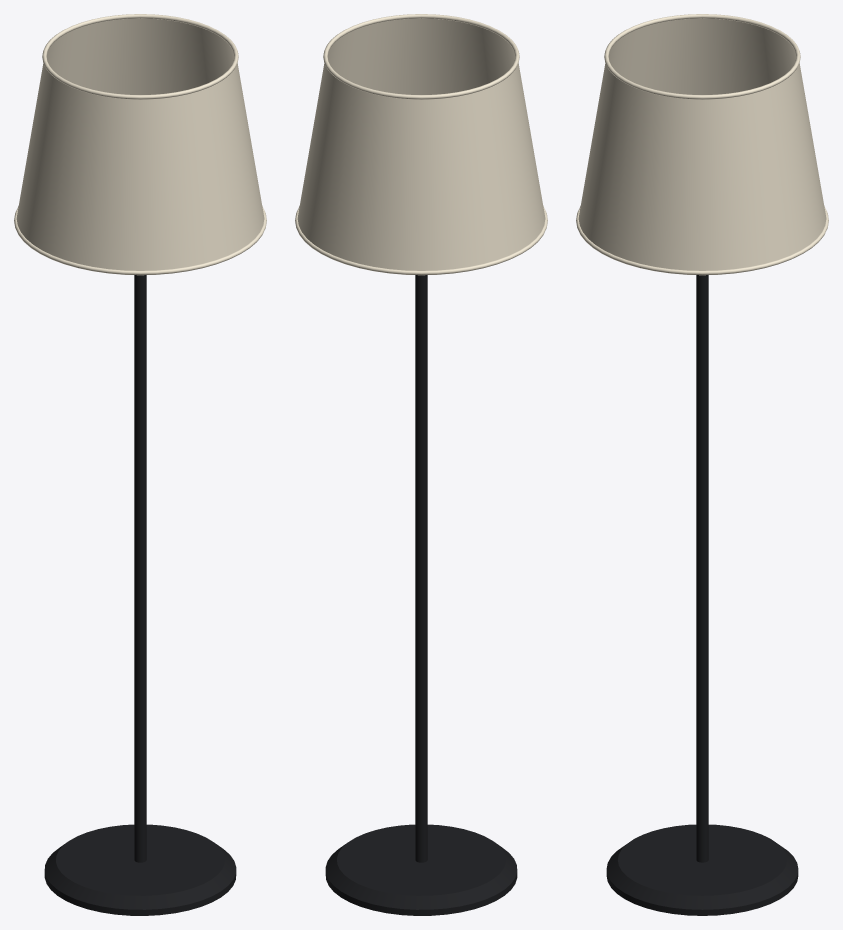
The model's file is candeeiro.glb.
3 views of the same model, side by side, from view 1: azimuth 30°, elevation 25°; view 2: azimuth 150°, elevation 25°; view 3: azimuth 270°, elevation 25° (orthographic).
Parts seen in each view (by area): view 1: p; view 2: p; view 3: p.
Boxes of the visible parts, x1,y1,x2,y2 form: p: (14, 14, 266, 915); p: (295, 14, 547, 915); p: (576, 14, 828, 915).
Bounding box in the file's own units: 0.448 × 1.6 × 0.448.
